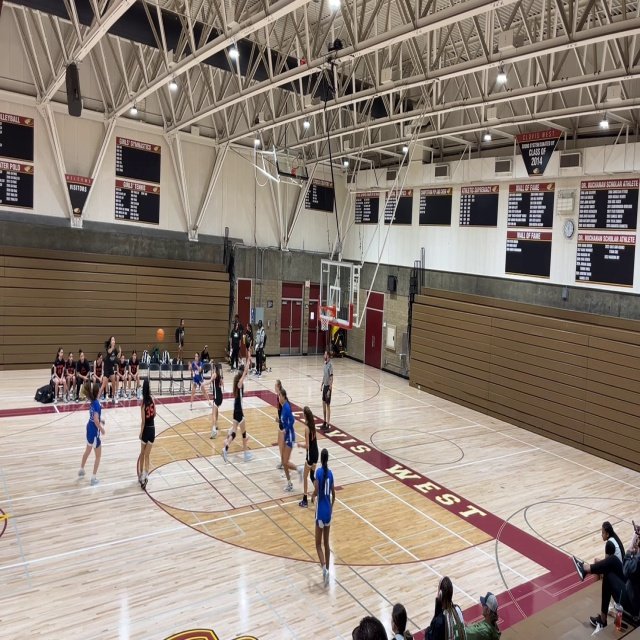Basketball: (156, 328, 164, 341)
